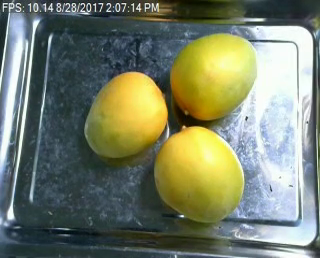Mango: (156, 126, 248, 222), (80, 68, 169, 162), (172, 29, 259, 122)
